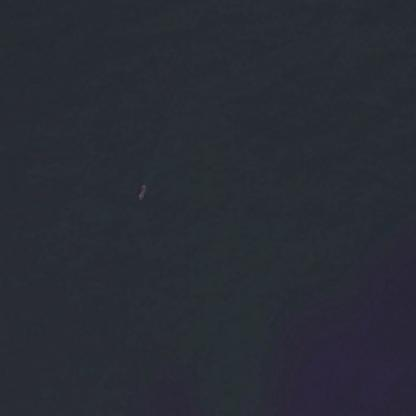ship: (130, 179, 153, 203)
